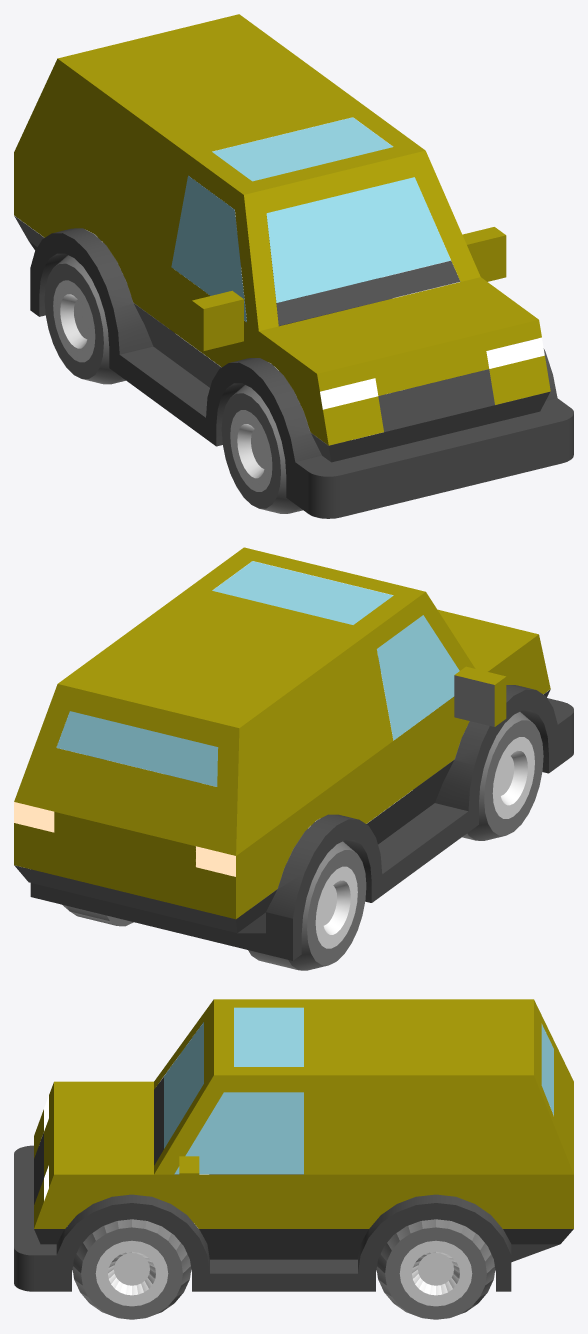
Rendered from suv-luxury.glb.
3 renders of one model, top to bottom at view 1: azimuth 30°, elevation 25°; view 2: azimuth 150°, elevation 25°; view 3: azimuth 270°, elevation 25°, orthographic. The views are drawn at different scales.
Parts seen in each view (by area): view 1: body.009, wheel_backRight.009, wheel_frontRight.009; view 2: body.009, wheel_backRight.009, wheel_frontRight.009; view 3: body.009, wheel_frontLeft.009, wheel_backLeft.009.
Part boxes in pixels (left/top/right/bottom): body.009: left=14, top=14, right=573, bottom=518; wheel_backRight.009: left=44, top=242, right=168, bottom=384; wheel_frontRight.009: left=221, top=385, right=325, bottom=513; body.009: left=14, top=547, right=573, bottom=960; wheel_backRight.009: left=248, top=841, right=366, bottom=970; wheel_frontRight.009: left=419, top=712, right=543, bottom=840; body.009: left=14, top=999, right=573, bottom=1291; wheel_frontLeft.009: left=72, top=1219, right=191, bottom=1319; wheel_backLeft.009: left=376, top=1219, right=495, bottom=1319.
Size of the model in its own units: 1.5 by 1.3 by 2.8.
